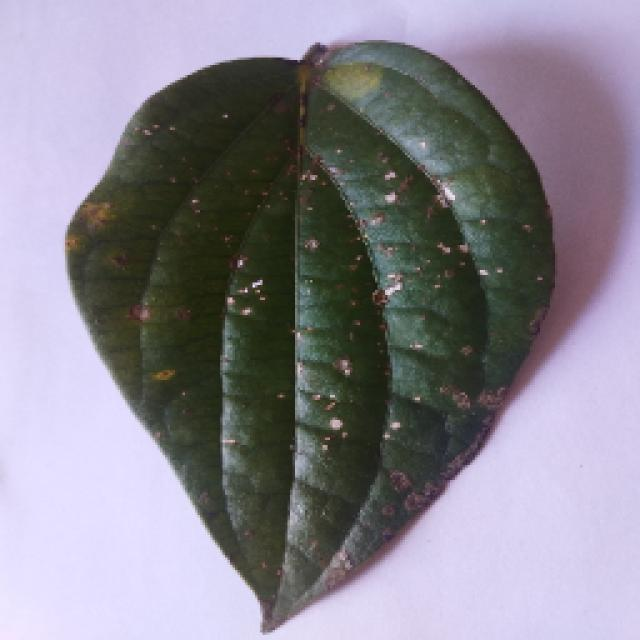pollu-disease: (40, 55, 582, 635)
